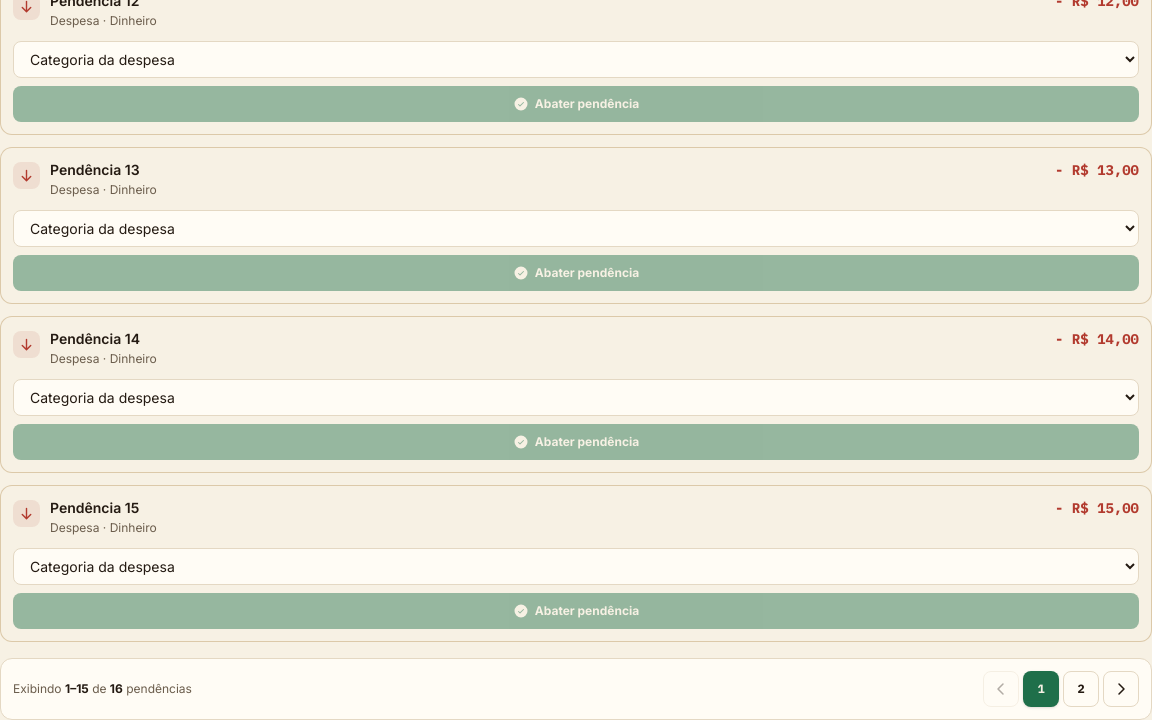
PendingIdentificationList › mostra no máximo 15 pendências por página
(page scrolled)
Check: the text "Pendência 16" is not shown
Click the button named "Próxima página" at (1121, 689), box [1103, 671, 1139, 707]
(page scrolled)
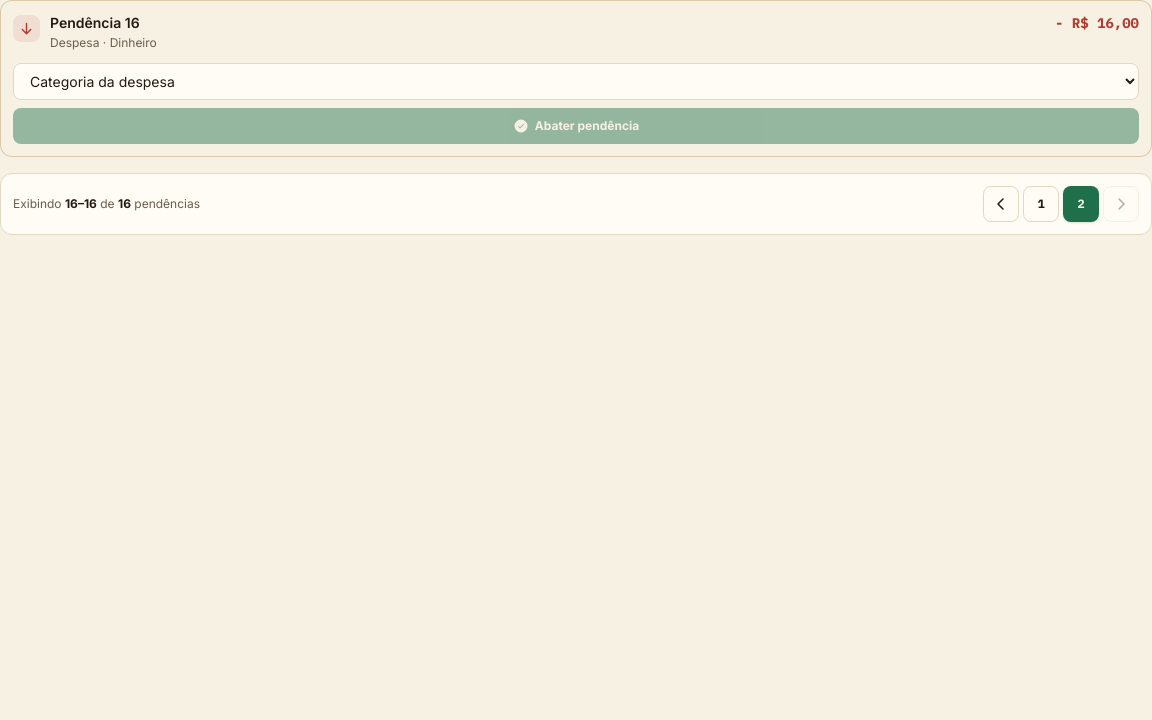
Check: the text "Pendência 16" is shown, box [50, 14, 140, 31]
